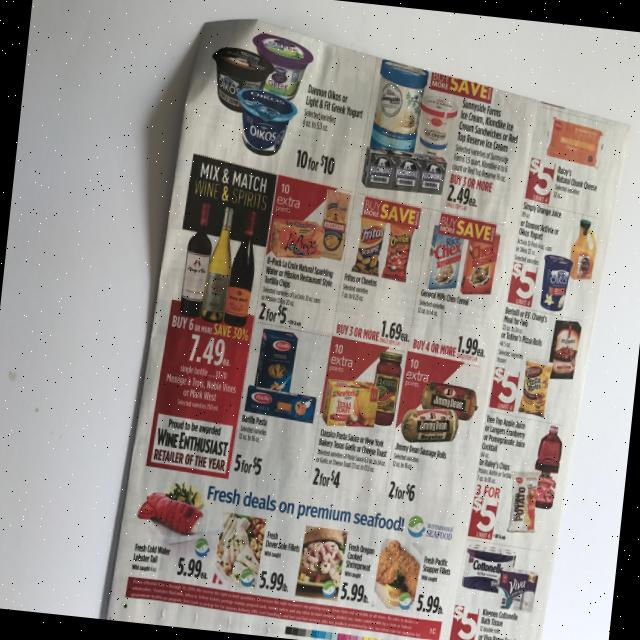paper: (105, 9, 637, 640)
